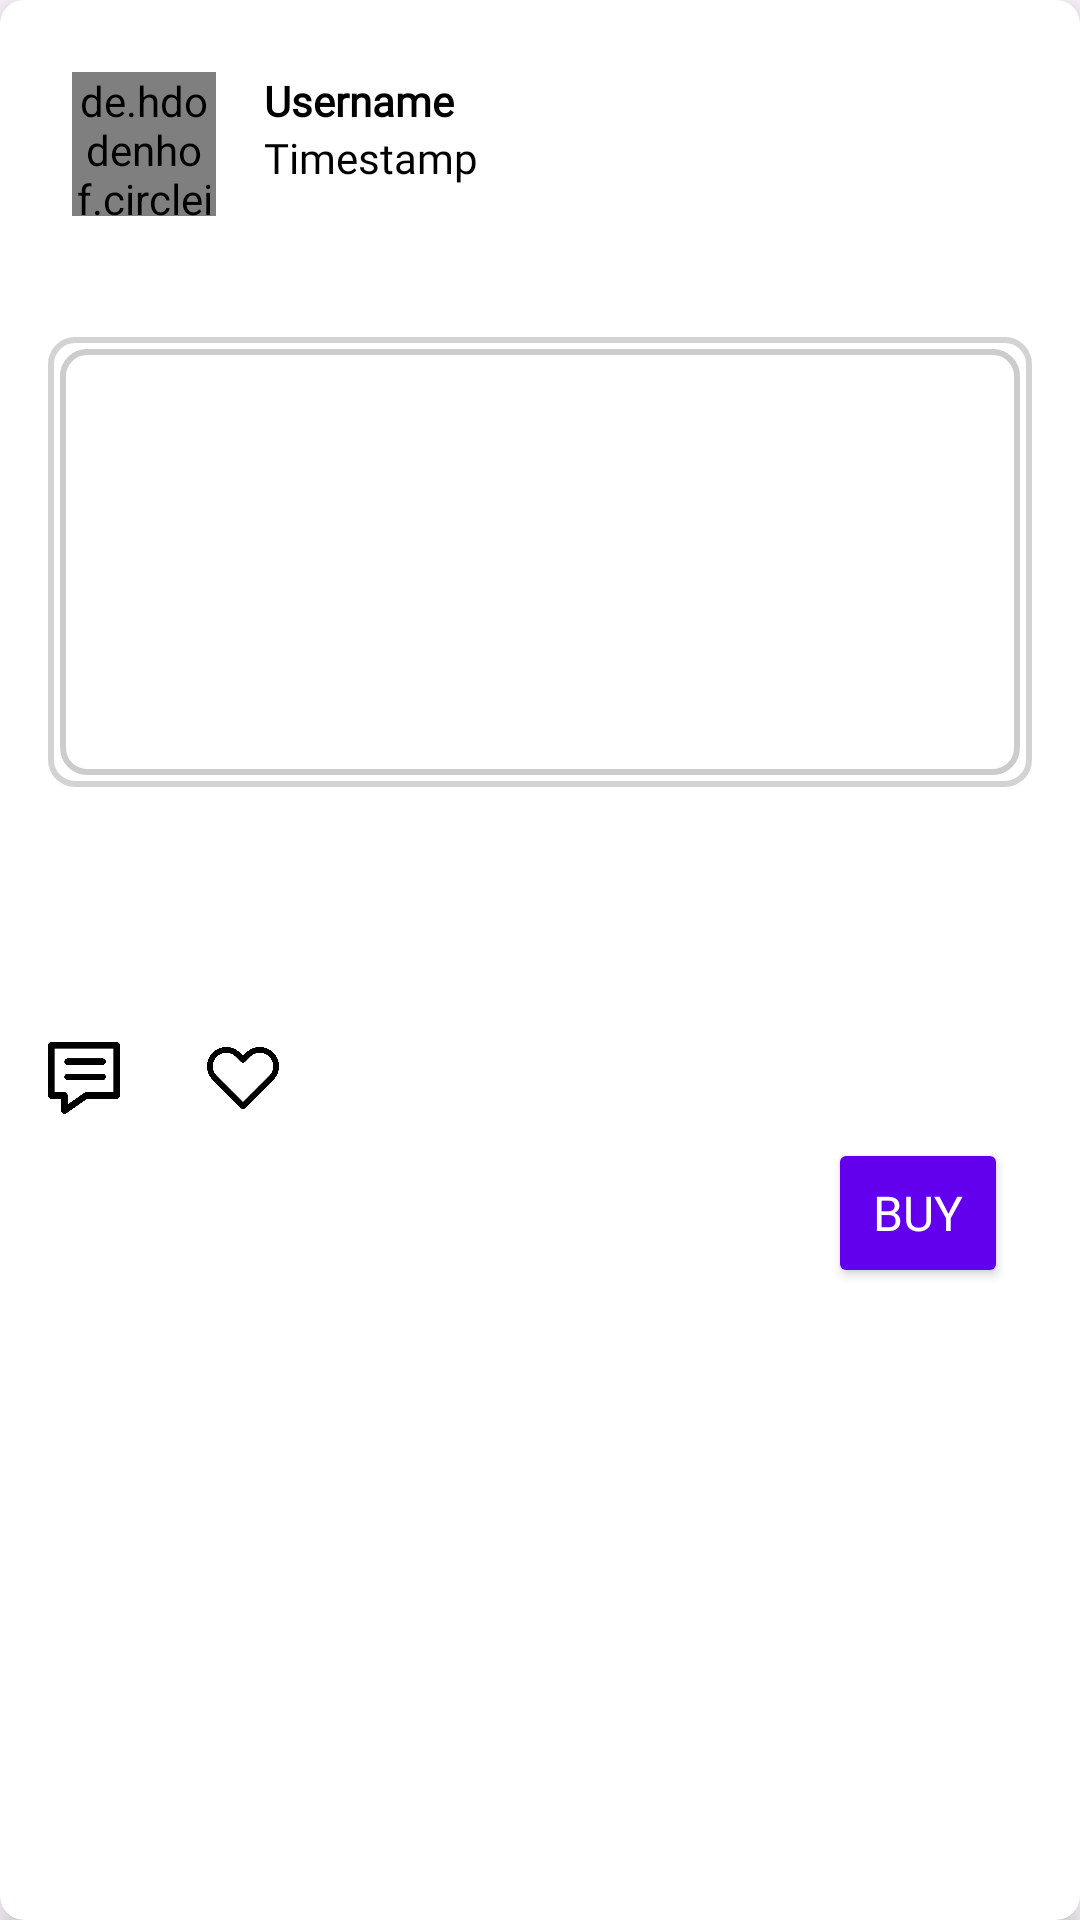

Screen size 1080x1920. Icon name, then its center in pixels as (x,y):
comment: (84,1078)
no wishlist: (243,1078)
